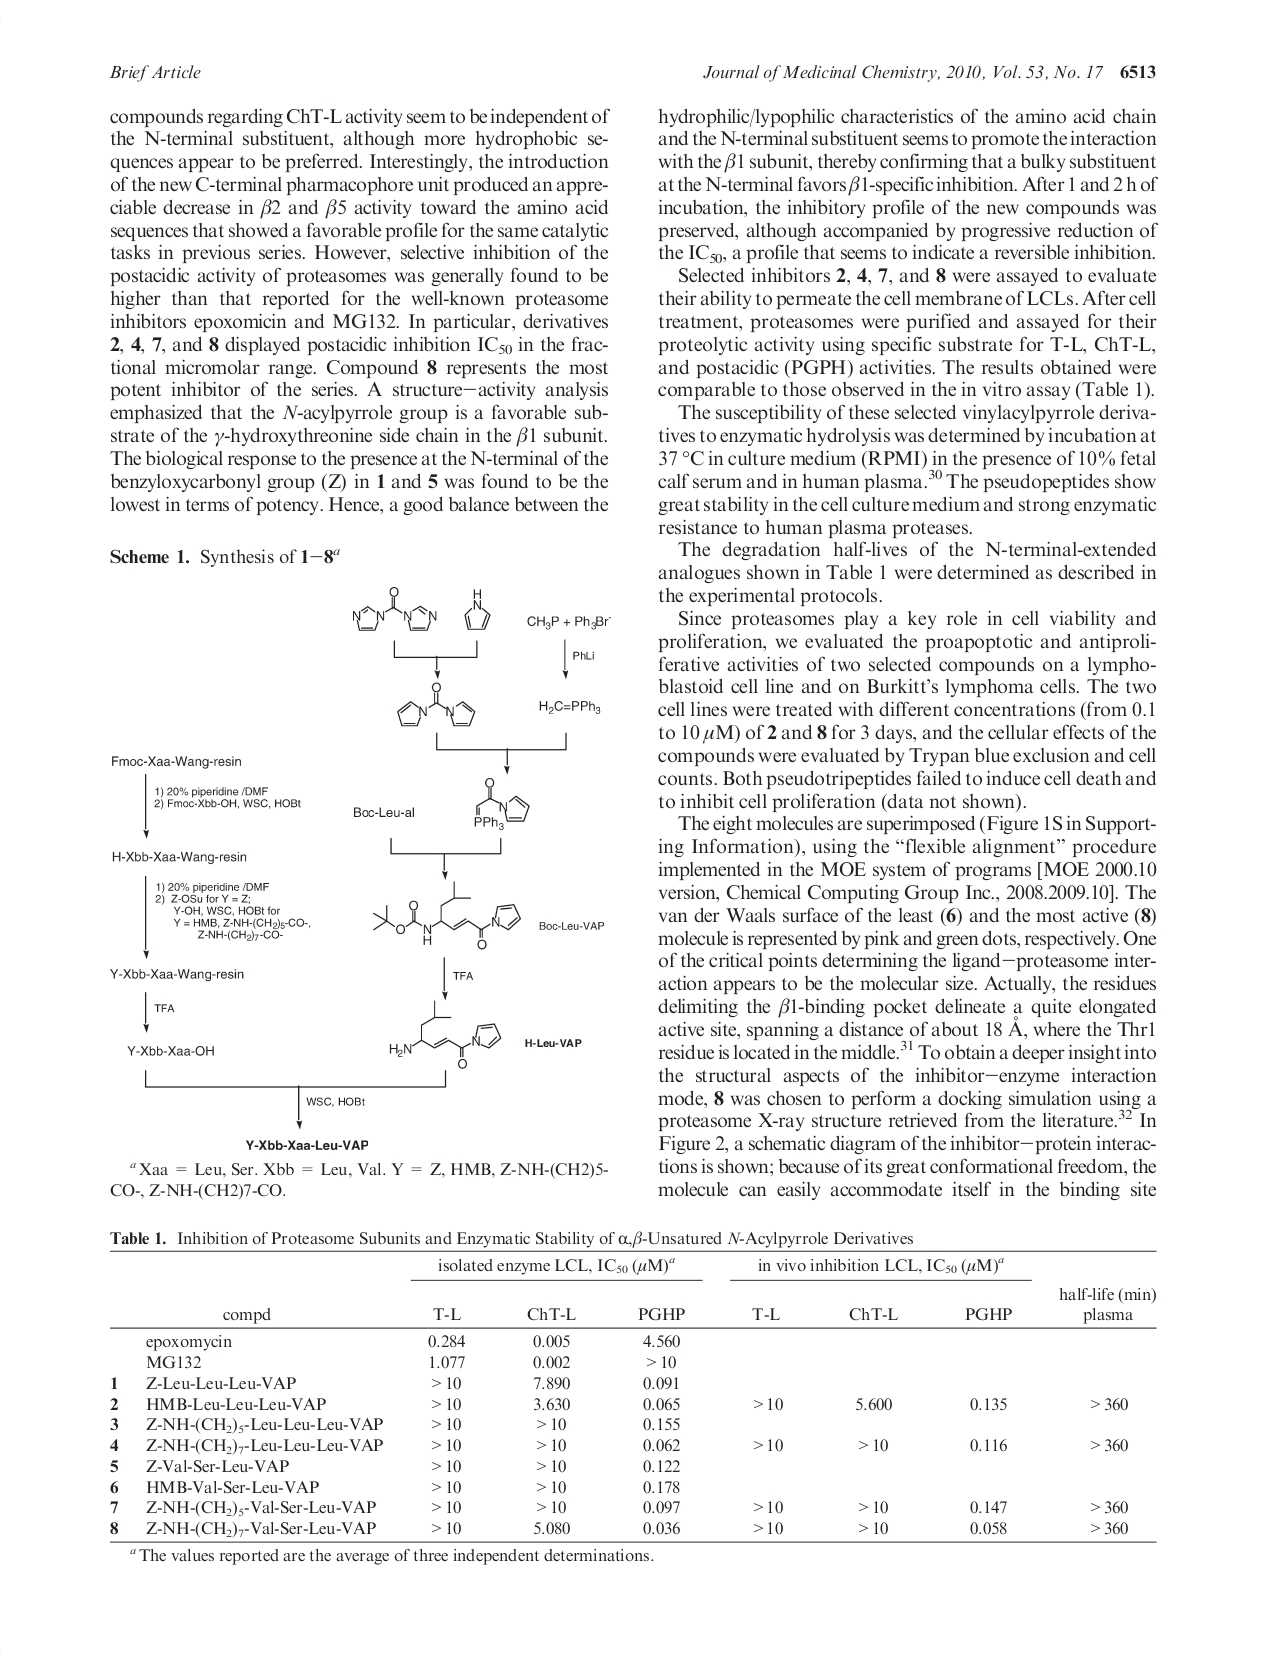exist_molecular: (370, 880, 532, 954), (378, 1000, 511, 1069), (336, 578, 447, 641), (392, 676, 481, 731), (465, 774, 532, 827), (459, 577, 496, 638)
